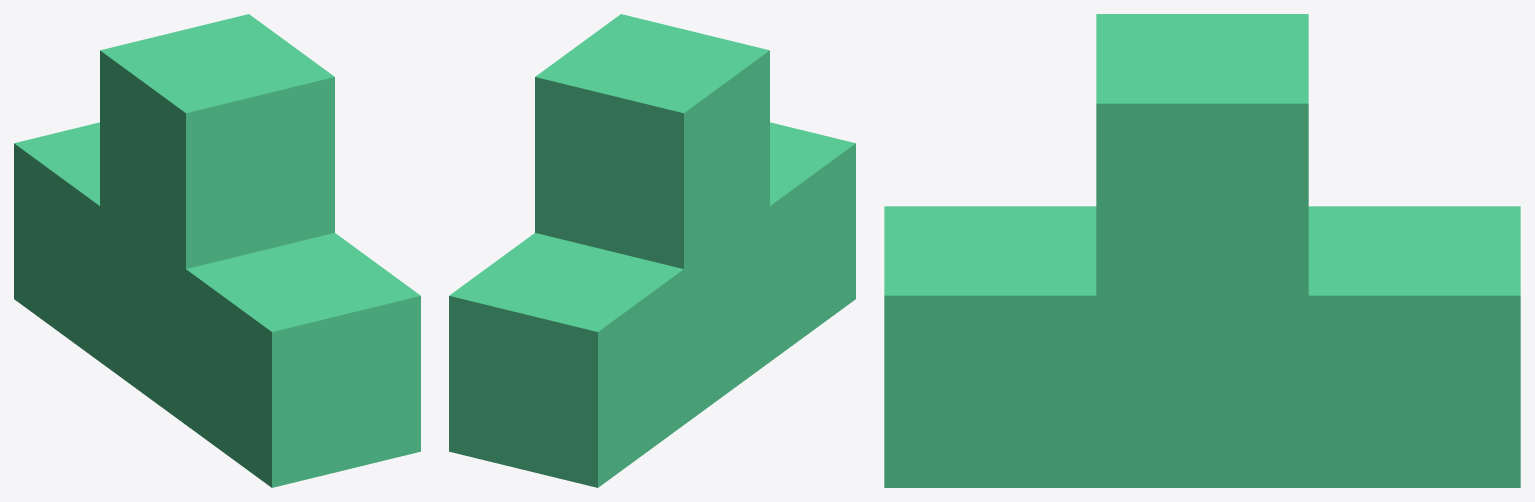
File: Block3.fbx
3 renders of one model, left to right at view 1: azimuth 30°, elevation 25°; view 2: azimuth 150°, elevation 25°; view 3: azimuth 270°, elevation 25°, orthographic. The views are drawn at different scales.
Parts seen in each view (by area): view 1: Cube.001; view 2: Cube.001; view 3: Cube.001.
Boxes of the visible parts, bbox=[...] form: Cube.001: bbox=[14, 14, 420, 487]; Cube.001: bbox=[449, 14, 855, 487]; Cube.001: bbox=[884, 14, 1520, 487].
Size of the model in its own units: 200 by 400 by 600.
